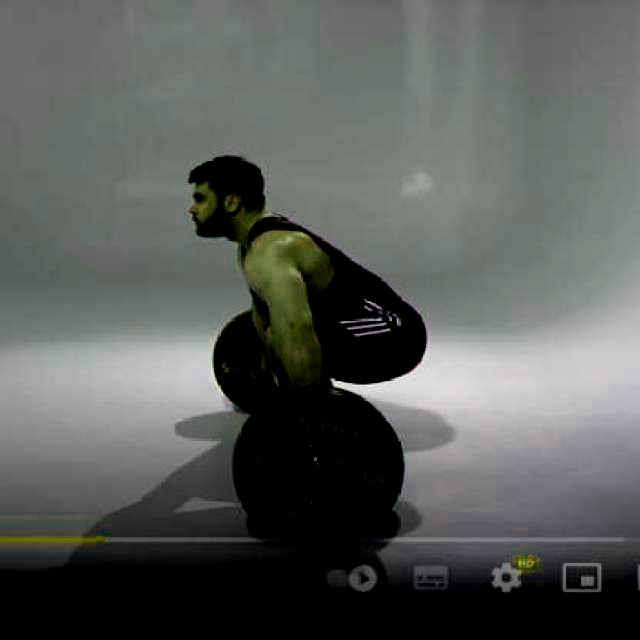barbell: (228, 389, 410, 549)
